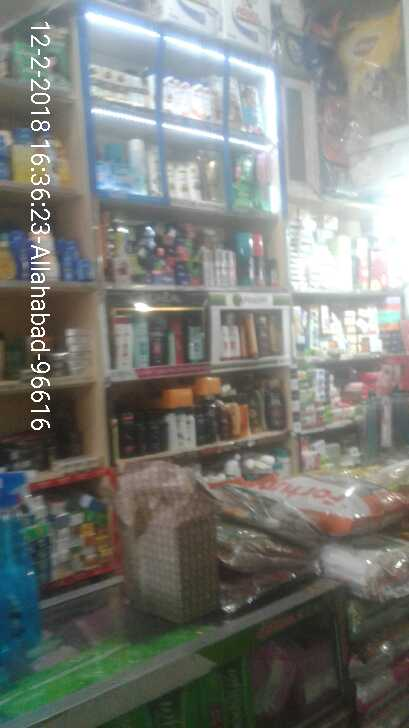gillete: (237, 234, 254, 284), (254, 234, 265, 284), (271, 257, 277, 283)
